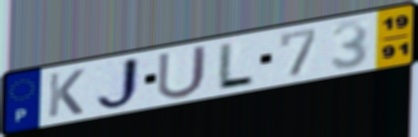3: (329, 18, 371, 70)
7: (276, 26, 318, 79)
J: (93, 55, 144, 112)
K: (45, 67, 87, 120)
L: (214, 40, 257, 90)
U: (155, 42, 210, 101)
